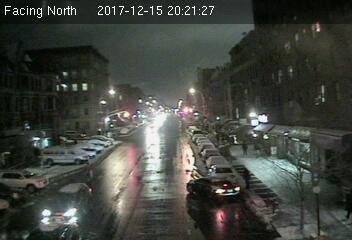car: (43, 182, 94, 219), (186, 176, 241, 200), (212, 165, 237, 180)
pedestrian: (243, 166, 251, 190), (240, 140, 250, 156)
